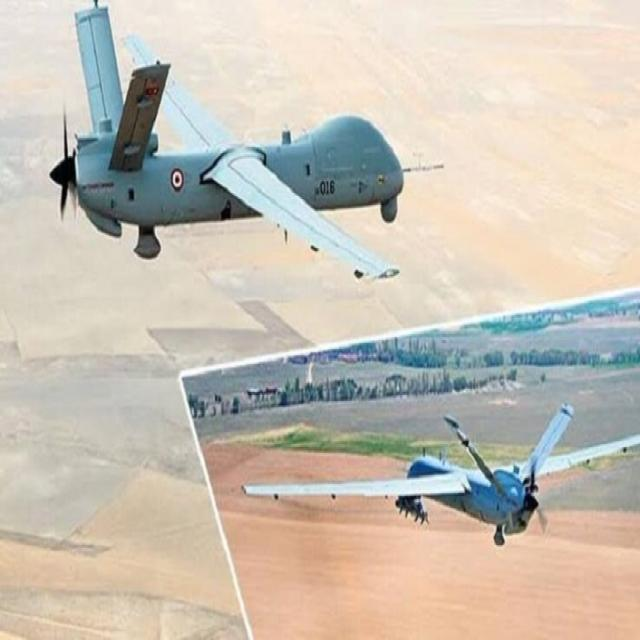iha: (49, 4, 445, 277), (242, 401, 640, 547)
